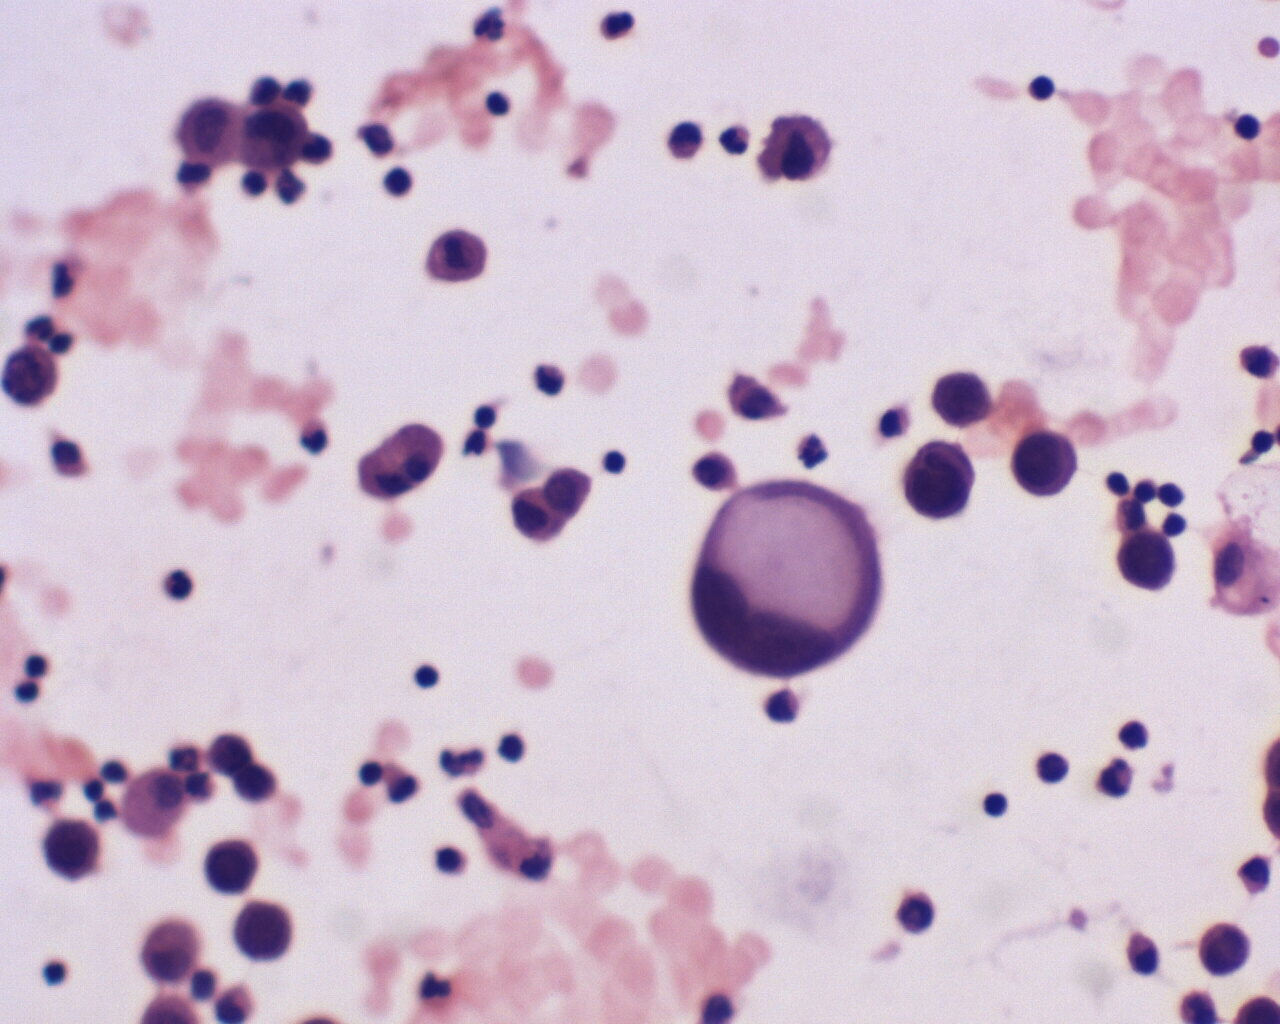ab: (683, 474, 894, 679), (904, 437, 981, 520), (1009, 420, 1081, 507), (1113, 528, 1177, 602), (37, 820, 109, 885), (229, 900, 297, 965), (931, 365, 993, 428)
lymph: (1020, 68, 1061, 107), (478, 83, 515, 121), (978, 784, 1014, 824), (405, 659, 442, 698), (1232, 108, 1267, 145)
meso: (174, 89, 242, 171), (118, 768, 190, 843), (133, 913, 203, 987)
neutro: (1095, 755, 1137, 806), (716, 121, 753, 159)
